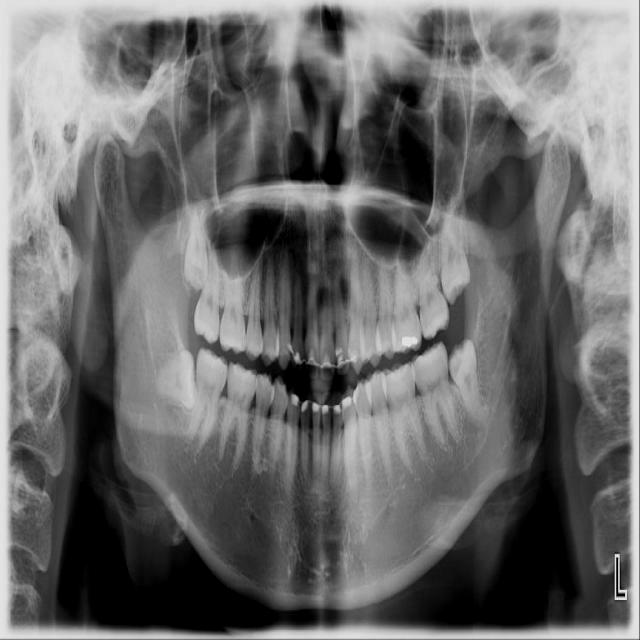Filling: (401, 336, 417, 348)
Periapical lesion: (464, 417, 477, 431)
impacted tooth: (436, 211, 471, 303), (449, 341, 488, 422), (147, 351, 198, 408), (184, 203, 209, 289)
